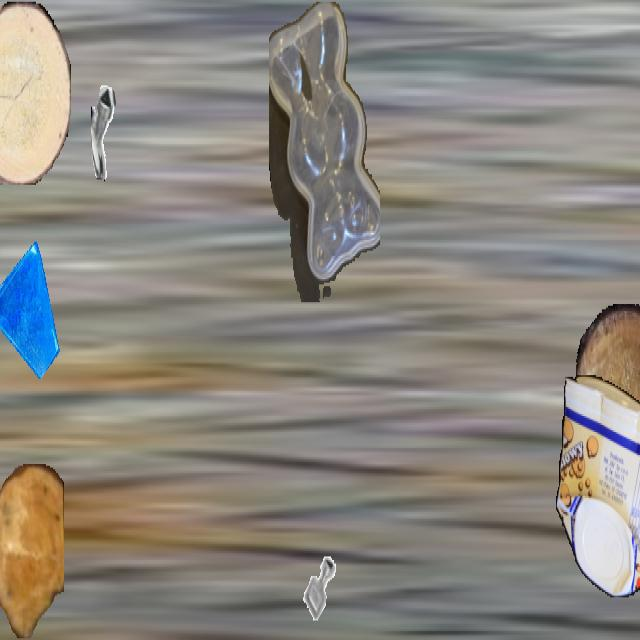glass: (0, 242, 60, 377)
metal: (91, 82, 147, 181), (295, 542, 345, 631)
plastic: (269, 2, 379, 300), (556, 375, 640, 596)
wood: (0, 2, 71, 183), (576, 304, 640, 489), (0, 464, 63, 638)
